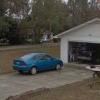Car: (10, 48, 78, 76)
